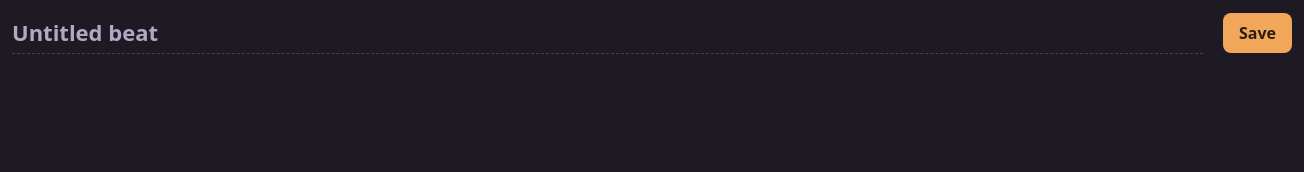
Test case: SaveBar › saves into the same beat after the first save
Later steps or results of the test are not shown.
Click the button "Save" at point(1258, 33), box [1223, 13, 1292, 53]
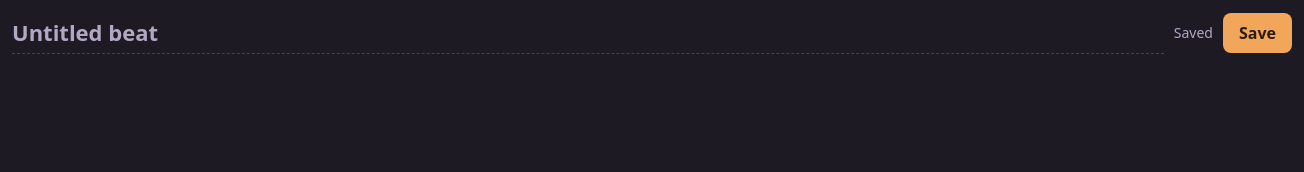
expect the message reads "Saved": met, box [1174, 23, 1213, 42]
